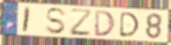8: (145, 13, 163, 40)
D: (94, 9, 117, 37), (119, 11, 141, 38)
I: (21, 6, 32, 35)
S: (45, 7, 68, 35)
Z: (69, 8, 93, 38)
